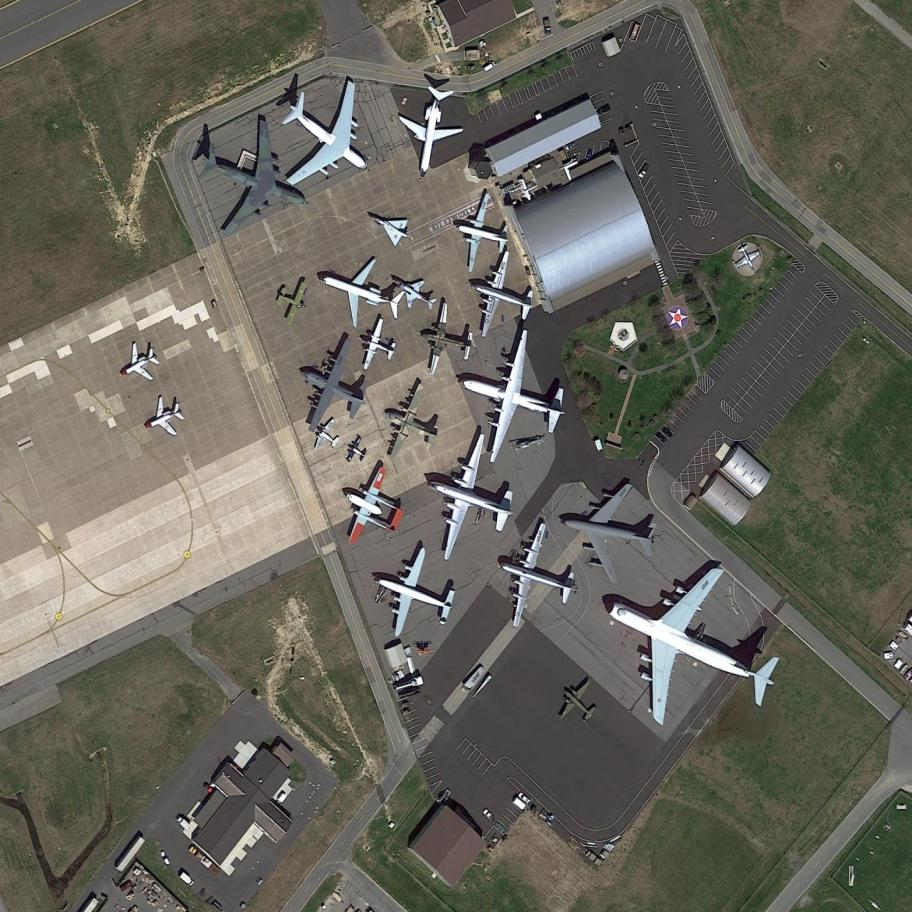large-vehicle: (393, 676, 424, 693), (177, 869, 196, 889), (630, 23, 641, 41)
plane: (556, 525, 817, 767), (246, 55, 410, 225), (178, 99, 328, 263), (444, 314, 587, 483), (410, 419, 539, 579), (546, 463, 673, 594), (483, 509, 593, 646), (280, 323, 388, 452), (357, 534, 468, 658), (309, 243, 417, 341), (385, 79, 476, 187), (327, 455, 419, 561), (462, 244, 546, 351), (369, 372, 454, 474), (449, 184, 518, 280), (414, 299, 480, 384), (547, 672, 609, 737), (380, 261, 444, 321), (350, 312, 405, 375), (109, 334, 166, 394), (135, 388, 191, 447), (267, 274, 314, 330), (363, 204, 416, 250), (726, 237, 770, 281), (308, 413, 347, 458), (340, 433, 373, 468)
small-vehicle: (517, 791, 533, 806), (481, 60, 497, 74), (482, 808, 496, 823), (596, 104, 612, 116), (638, 163, 650, 178), (119, 880, 133, 892), (565, 141, 579, 153), (662, 426, 674, 438), (655, 431, 667, 443), (586, 148, 593, 161)
